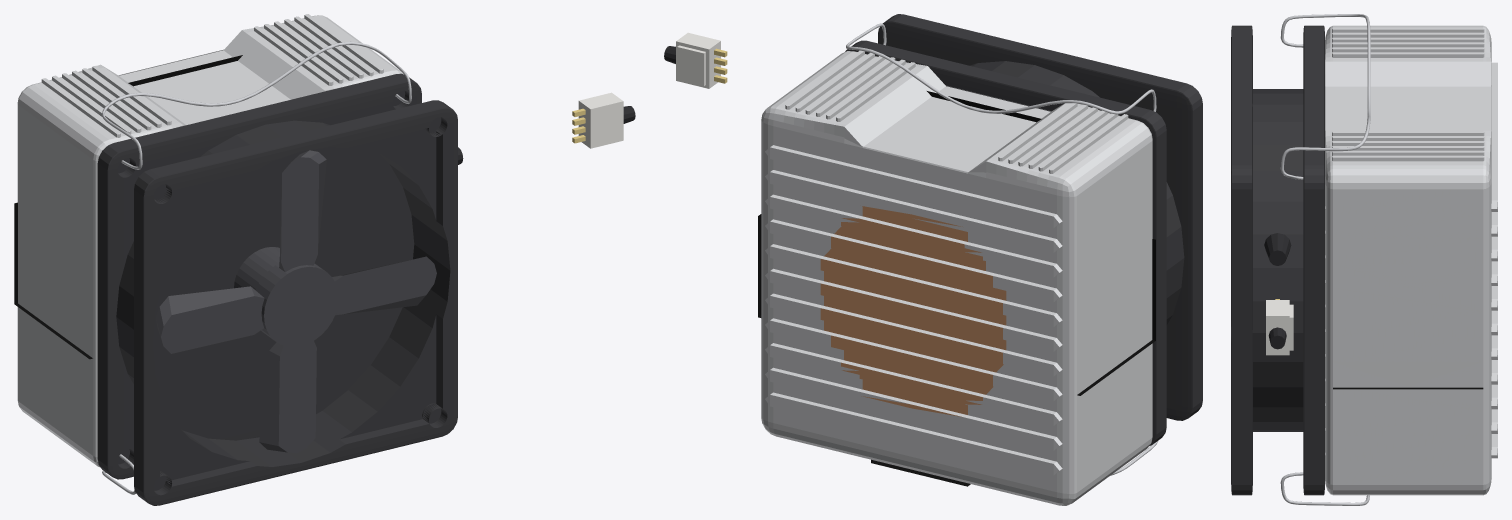
The model's file is CircuitCrafter_Heatsink.fbx.
3 views of the same model, side by side, from view 1: azimuth 30°, elevation 25°; view 2: azimuth 150°, elevation 25°; view 3: azimuth 270°, elevation 25° (orthographic).
Visible parts, largest first — view 1: Heatsink_FanShroud, Heatsink_FinBody, Heatsink_FanBlades, CC_FanCable_Plug, Heatsink_Clip_A, Heatsink_Label; view 2: Heatsink_FinBody, Heatsink_FanShroud, CC_FanCable_Plug, Heatsink_Label, Heatsink_Clip_A; view 3: Heatsink_FinBody, Heatsink_FanShroud, CC_FanCable_Plug, Heatsink_Clip_A, CC_FanCable_Boot, Heatsink_Clip_B, Heatsink_Label.
Boxes of the visible parts, left/top/right/bottom form: Heatsink_FanShroud: left=97, top=73, right=457, bottom=505; Heatsink_FinBody: left=17, top=14, right=403, bottom=467; Heatsink_FanBlades: left=156, top=150, right=436, bottom=453; CC_FanCable_Plug: left=572, top=92, right=635, bottom=148; Heatsink_Clip_A: left=102, top=41, right=411, bottom=169; Heatsink_Label: left=14, top=55, right=242, bottom=359; Heatsink_FinBody: left=761, top=50, right=1152, bottom=505; Heatsink_FanShroud: left=845, top=14, right=1202, bottom=445; CC_FanCable_Plug: left=664, top=32, right=727, bottom=88; Heatsink_Label: left=758, top=91, right=1155, bottom=486; Heatsink_Clip_A: left=846, top=23, right=1156, bottom=114; Heatsink_FinBody: left=1325, top=25, right=1497, bottom=495; Heatsink_FanShroud: left=1231, top=25, right=1324, bottom=495; CC_FanCable_Plug: left=1266, top=299, right=1293, bottom=355; Heatsink_Clip_A: left=1280, top=14, right=1370, bottom=179; CC_FanCable_Boot: left=1264, top=233, right=1291, bottom=265; Heatsink_Clip_B: left=1280, top=472, right=1369, bottom=505; Heatsink_Label: left=1333, top=387, right=1483, bottom=389.
Bounding box in the file's own units: 327 × 231 × 147.
9 materials, 1 textured.
